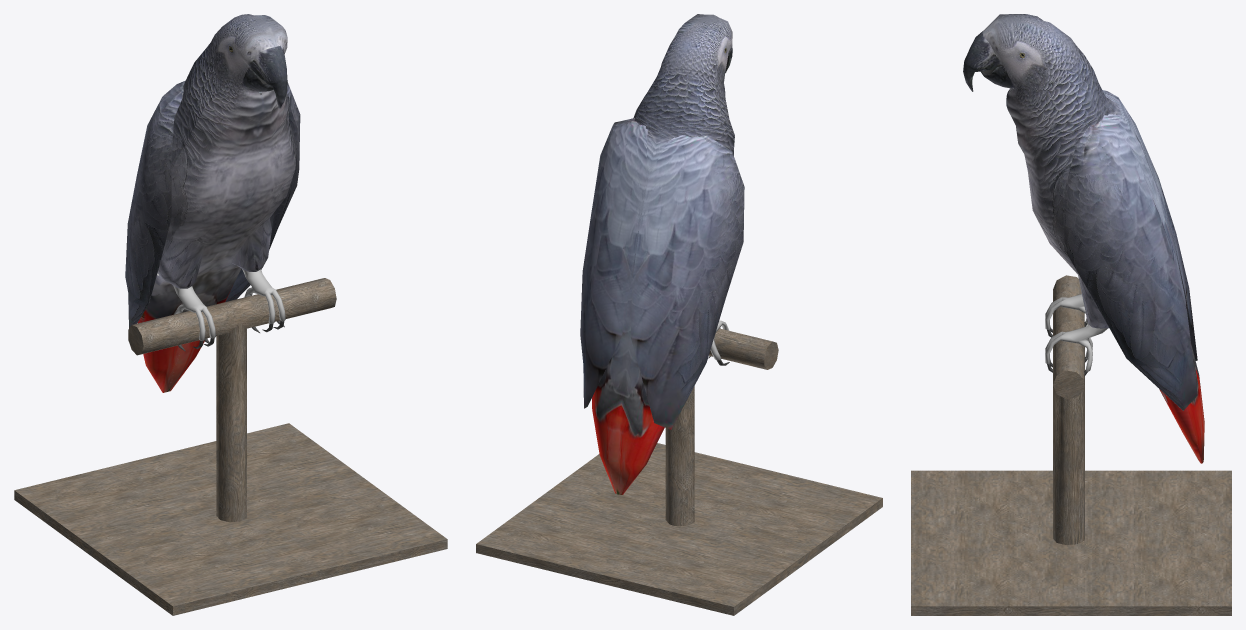
File: parrot.glb
The picture shows the model from 3 angles, left to right: view 1: azimuth 30°, elevation 25°; view 2: azimuth 150°, elevation 25°; view 3: azimuth 270°, elevation 25°; orthographic projection. The views are drawn at different scales.
Parts seen in each view (by area): view 1: Parrot_stand, Parrot_body; view 2: Parrot_body, Parrot_stand; view 3: Parrot_stand, Parrot_body.
Part boxes in pixels (bbox=[...]): Parrot_stand: bbox=[14, 278, 447, 615]; Parrot_body: bbox=[125, 14, 300, 392]; Parrot_body: bbox=[580, 14, 744, 494]; Parrot_stand: bbox=[476, 328, 882, 615]; Parrot_stand: bbox=[911, 275, 1231, 615]; Parrot_body: bbox=[963, 14, 1204, 463].
Bounding box in the file's own units: 142 × 259 × 142.
2 materials, 2 textured.
